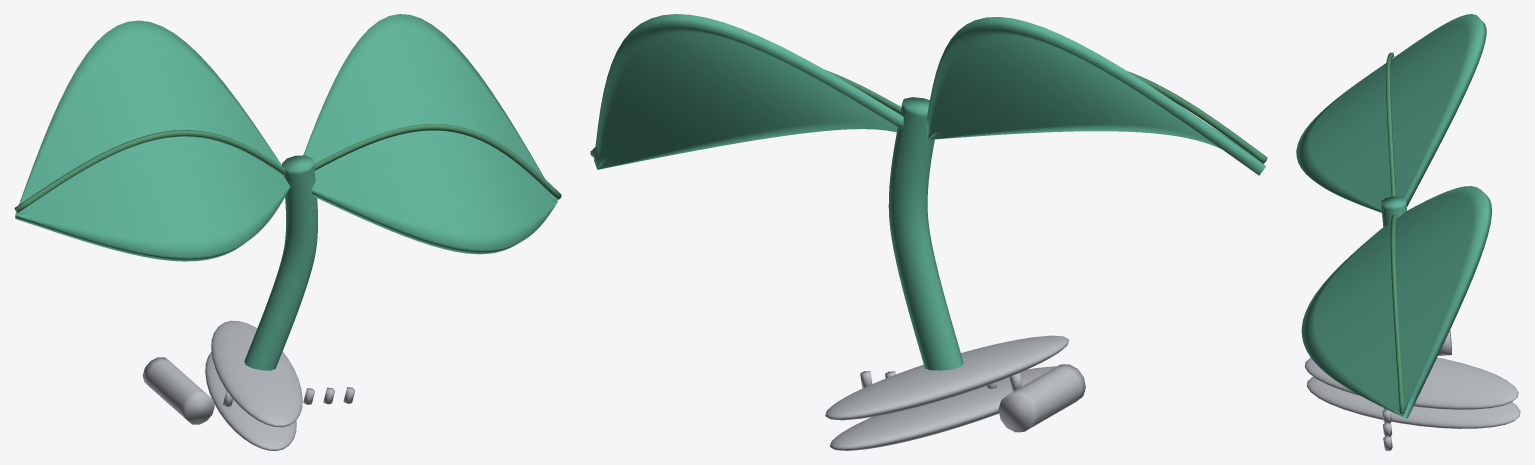
File: Feminine-twin-braids--none-sprout.glb
3 views of the same model, side by side, from view 1: azimuth 30°, elevation 25°; view 2: azimuth 150°, elevation 25°; view 3: azimuth 270°, elevation 25° (orthographic). The views are drawn at different scales.
Parts seen in each view (by area): view 1: 226 extra / Accessory / mint226, 226 extra / Sprout / clip silver235, 226 extra / Sprout / leaf vein235; view 2: 226 extra / Accessory / mint226, 226 extra / Sprout / clip silver235, 226 extra / Sprout / leaf vein235; view 3: 226 extra / Accessory / mint226, 226 extra / Sprout / clip silver235, 226 extra / Sprout / leaf vein235.
Boxes of the visible parts, x1,y1,x2,y2 form: 226 extra / Accessory / mint226: [15, 14, 557, 370]; 226 extra / Sprout / clip silver235: [142, 320, 355, 450]; 226 extra / Sprout / leaf vein235: [14, 124, 561, 213]; 226 extra / Accessory / mint226: [594, 14, 1265, 370]; 226 extra / Sprout / clip silver235: [825, 335, 1085, 450]; 226 extra / Sprout / leaf vein235: [590, 70, 1267, 163]; 226 extra / Accessory / mint226: [1296, 14, 1491, 418]; 226 extra / Sprout / clip silver235: [1305, 330, 1520, 450]; 226 extra / Sprout / leaf vein235: [1385, 52, 1404, 414].
Size of the model in its own units: 0.2655 by 0.1771 by 0.1023.
